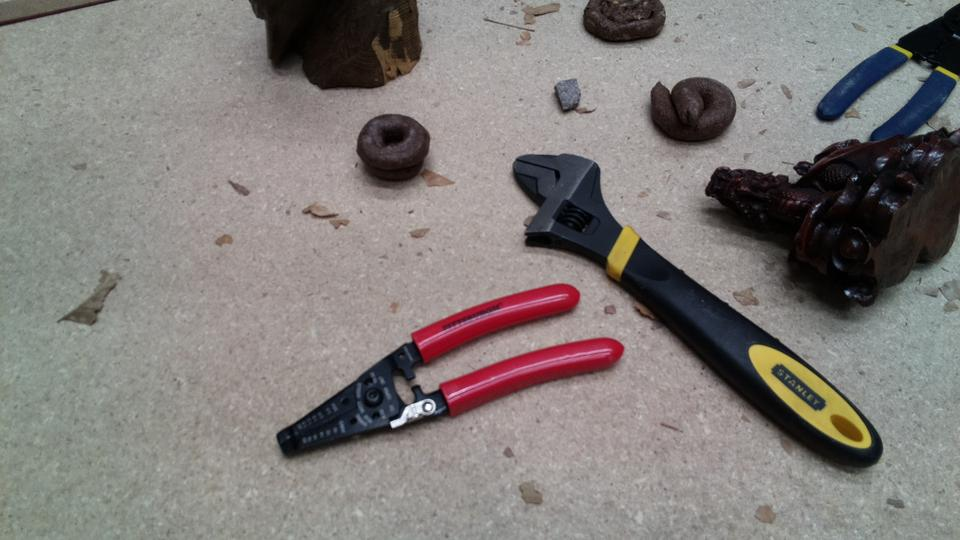poop: (354, 109, 434, 187), (647, 75, 738, 142), (578, 1, 672, 46)
